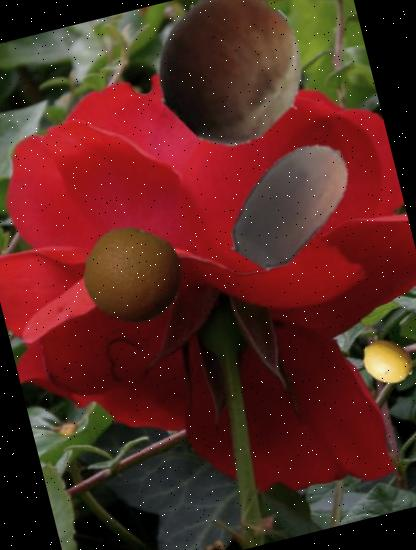Hazelnut: (206, 115, 379, 288)
Lemon: (356, 329, 416, 393)
Nut: (144, 0, 323, 157)
Orange: (74, 215, 194, 336)
